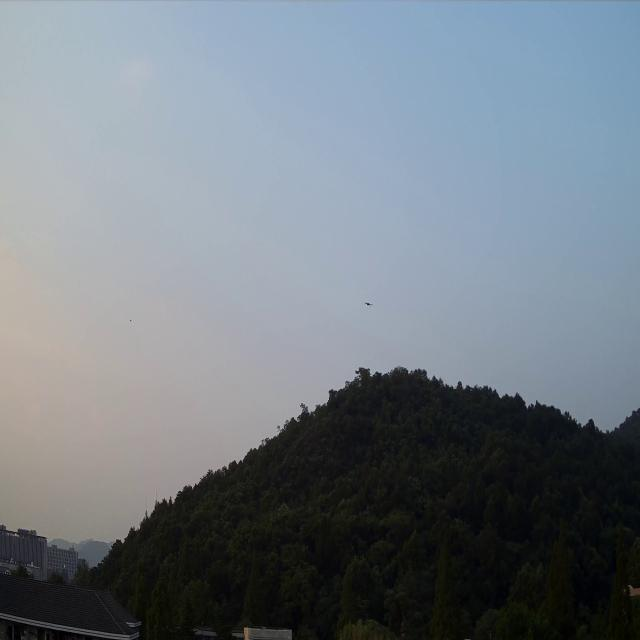UAV: (364, 301, 374, 307)
